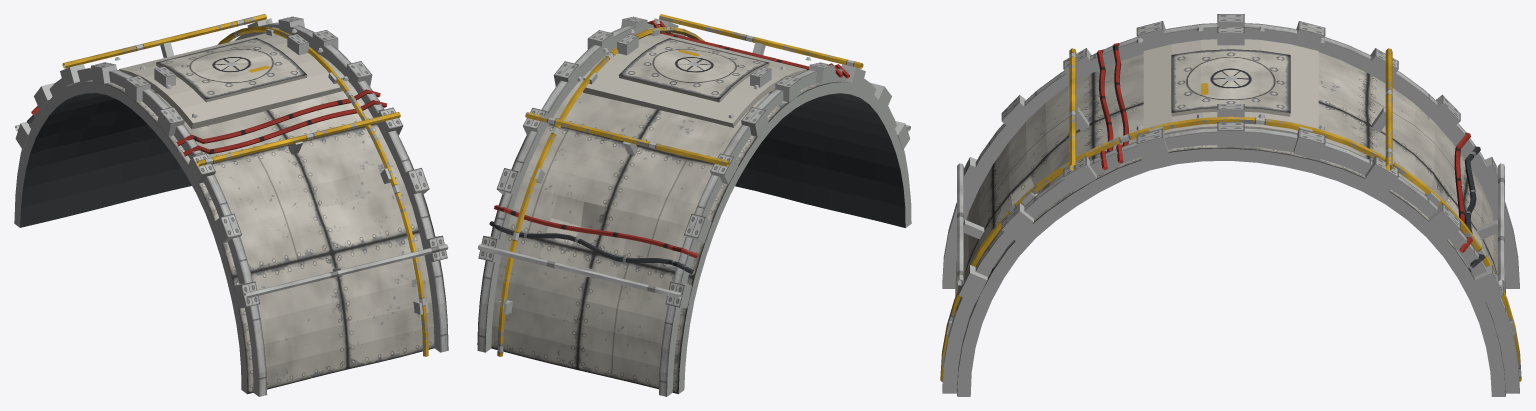
The model's file is hull_hatch.fbx.
3 renders of one model, left to right at view 1: azimuth 30°, elevation 25°; view 2: azimuth 150°, elevation 25°; view 3: azimuth 270°, elevation 25°, orthographic. The views are drawn at different scales.
Visible parts, largest first — view 1: hull_hatch; view 2: hull_hatch; view 3: hull_hatch.
Part boxes in pixels (bbox=[...]): hull_hatch: bbox=[14, 14, 448, 396]; hull_hatch: bbox=[477, 14, 911, 396]; hull_hatch: bbox=[940, 14, 1521, 396].
Bounding box in the file's own units: 1.01 × 1.09 × 2.11.
Materials: 1 (1 with a texture image).
